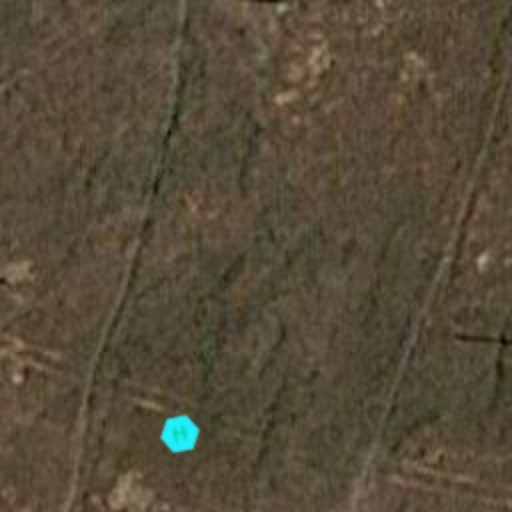hexagon: (156, 410, 204, 458)
